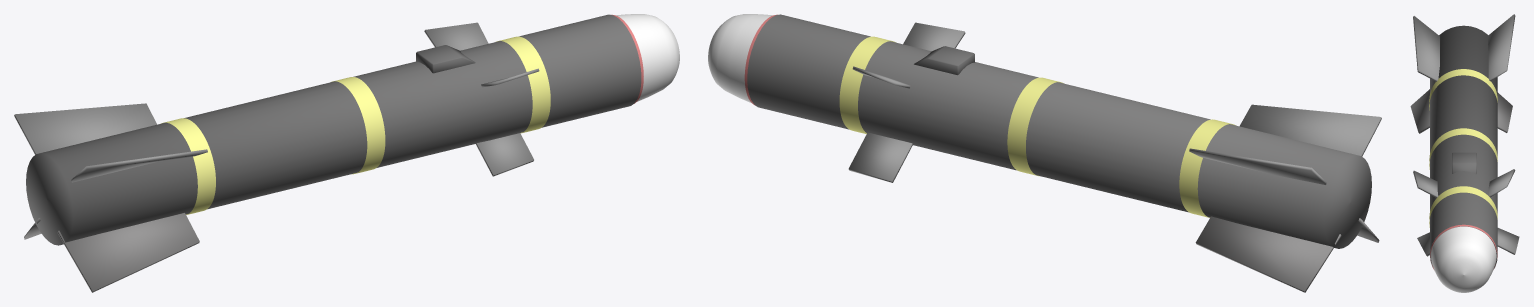
The model's file is hellfiremissile.fbx.
3 renders of one model, left to right at view 1: azimuth 30°, elevation 25°; view 2: azimuth 150°, elevation 25°; view 3: azimuth 270°, elevation 25°, orthographic. The views are drawn at different scales.
Visible parts, largest first — view 1: Circle, Plane.001, Circle.001, Plane.002, Circle.003, Plane.003, Plane, Plane.004; view 2: Circle, Plane.002, Circle.001, Plane.001, Circle.003, Plane.003, Plane, Plane.004; view 3: Circle, Circle.003, Plane.002, Circle.001, Plane.001, Plane, Plane.003, Plane.004, Circle.002.
Part boxes in pixels (left/top/right/bottom): Circle: left=26, top=14, right=641, bottom=245; Plane.001: left=24, top=213, right=199, bottom=292; Circle.001: left=161, top=36, right=550, bottom=214; Plane.002: left=14, top=103, right=207, bottom=182; Circle.003: left=616, top=14, right=679, bottom=101; Plane.003: left=476, top=133, right=533, bottom=176; Plane: left=424, top=22, right=539, bottom=87; Plane.004: left=416, top=45, right=475, bottom=73; Circle: left=747, top=14, right=1371, bottom=248; Plane.002: left=1189, top=104, right=1381, bottom=184; Circle.001: left=839, top=36, right=1235, bottom=217; Plane.001: left=1195, top=216, right=1379, bottom=292; Circle.003: left=708, top=14, right=772, bottom=103; Plane.003: left=848, top=132, right=913, bottom=182; Plane: left=852, top=22, right=965, bottom=88; Plane.004: left=914, top=46, right=974, bottom=75; Circle: left=1430, top=25, right=1497, bottom=268; Circle.003: left=1431, top=226, right=1496, bottom=292; Plane.002: left=1413, top=14, right=1515, bottom=81; Circle.001: left=1429, top=69, right=1497, bottom=227; Plane.001: left=1410, top=89, right=1512, bottom=133; Plane: left=1413, top=169, right=1515, bottom=197; Plane.003: left=1417, top=227, right=1519, bottom=256; Plane.004: left=1452, top=152, right=1476, bottom=174; Circle.002: left=1430, top=224, right=1497, bottom=269.
Bounding box in the file's own units: 369 × 71.87 × 77.37.
